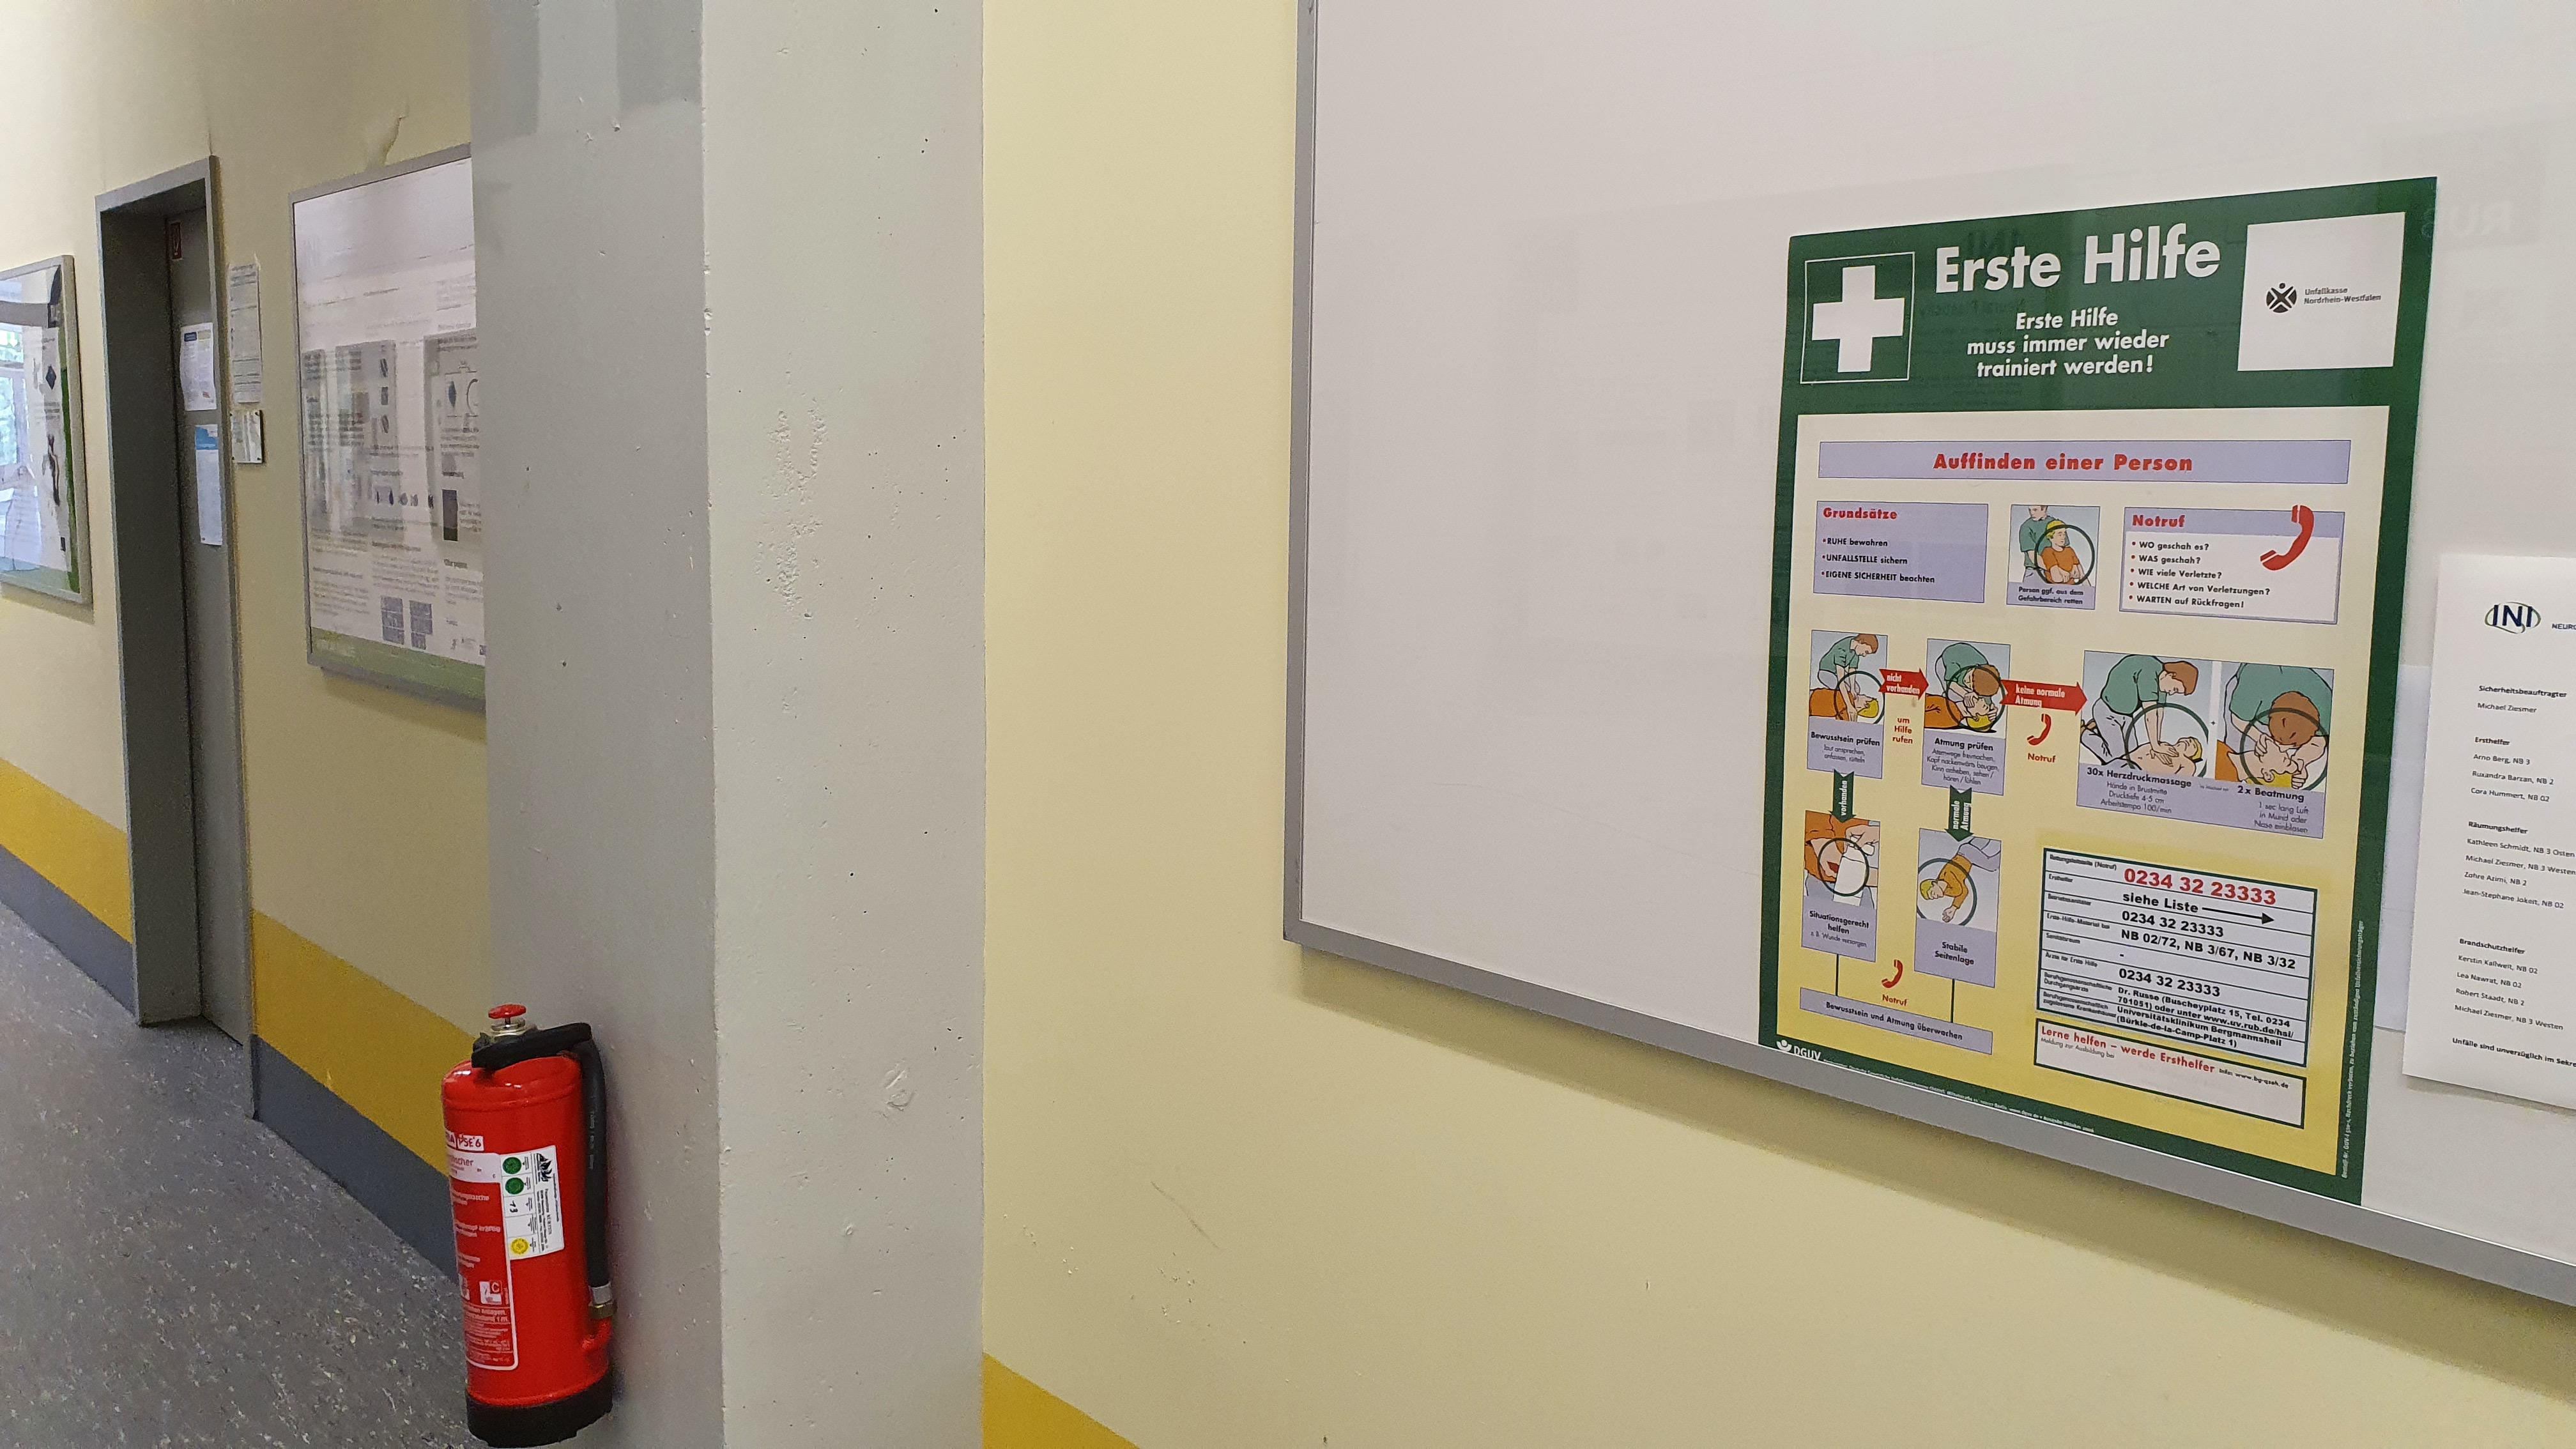extinguisher: (439, 1004, 618, 1448)
